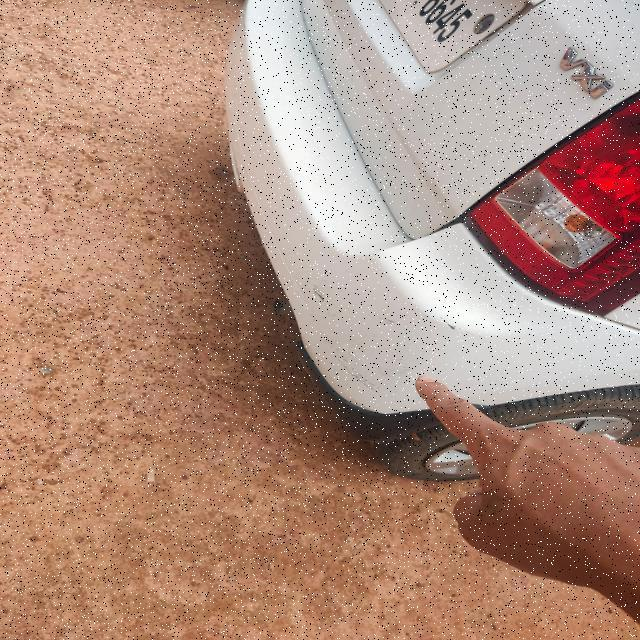rear-bumper-dent: (280, 243, 530, 447)
